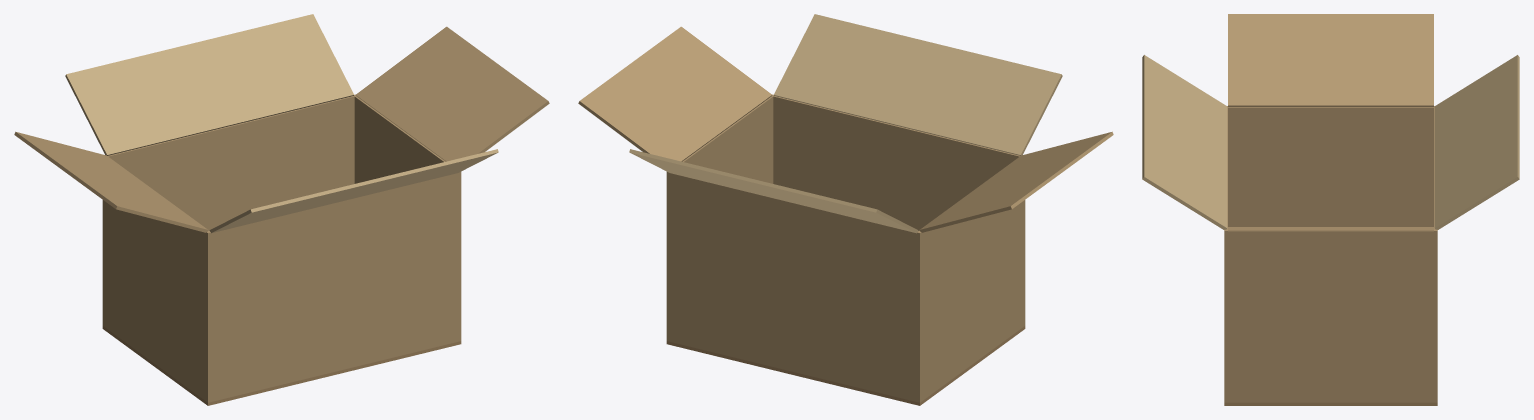
The model's file is open-box-v1.glb.
3 renders of one model, left to right at view 1: azimuth 30°, elevation 25°; view 2: azimuth 150°, elevation 25°; view 3: azimuth 270°, elevation 25°, orthographic.
Visible parts, largest first — view 1: 열린 골판지상자; view 2: 열린 골판지상자; view 3: 열린 골판지상자.
Part boxes in pixels (x1,y1,x2,y2): 열린 골판지상자: (14,14,549,405); 열린 골판지상자: (578,14,1113,405); 열린 골판지상자: (1142,14,1519,405).
Size of the model in its own units: 0.8568 by 0.4245 by 0.638.
